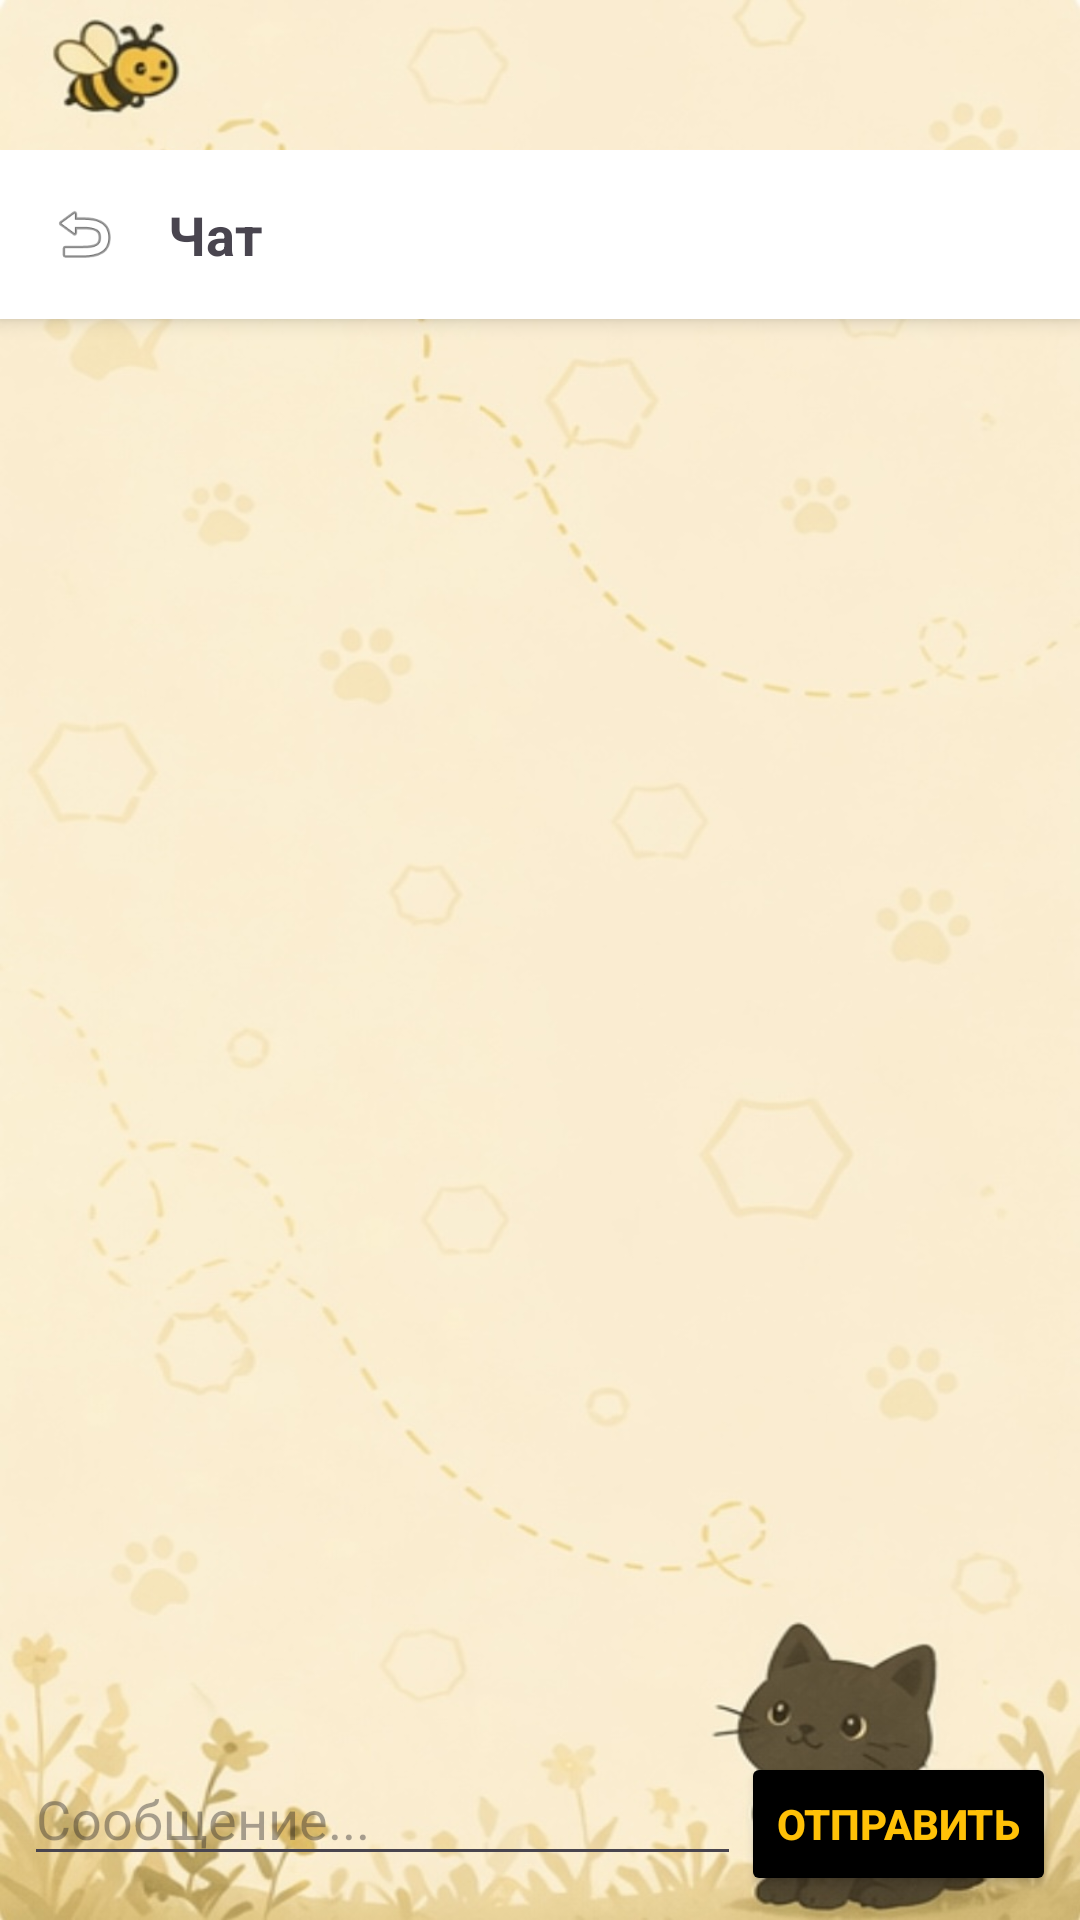

Icons on this 1080px x 1920px Android screen, each with the point to tap as (x,y):
revert: (85,234)
